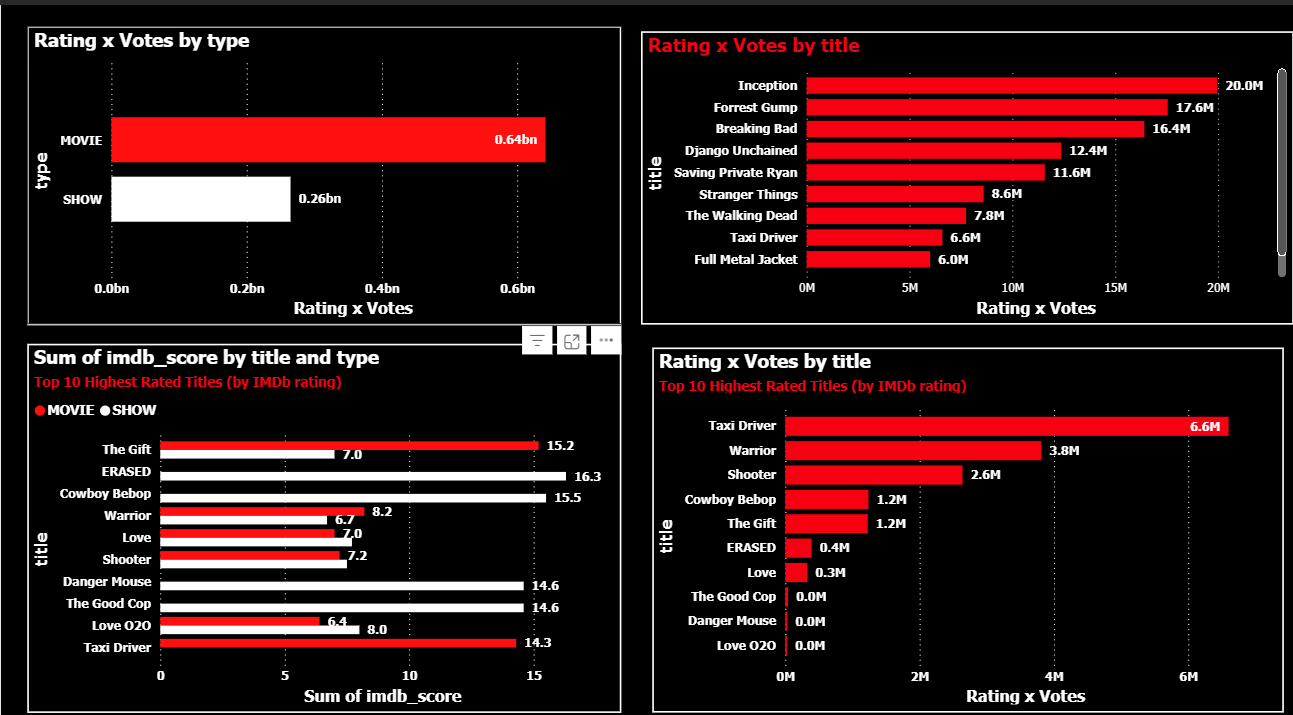

The page's visual inventory and layout, read from the dashboard file:
{"tool":"powerbi","page":{"name":"Page 2","canvas":[1280,720],"ordinal":1},"visuals":[{"type":"clusteredBarChart","fields":{"Category":["Netflix TV Shows and Movies.title"],"Series":["Netflix TV Shows and Movies.type"],"Y":["Sum(Netflix TV Shows and Movies.imdb_score)"]},"box":[26.1,332.1,583.2,362.3],"z":0},{"type":"clusteredBarChart","fields":{"Y":["Netflix TV Shows and Movies.Rating x Votes"],"Category":["Netflix TV Shows and Movies.title"]},"box":[639.5,336.2,620.2,358.1],"z":1000},{"type":"clusteredBarChart","fields":{"Y":["Netflix TV Shows and Movies.Rating x Votes"],"Category":["Netflix TV Shows and Movies.type"]},"box":[26.1,20.6,583.2,293.7],"z":2000},{"type":"clusteredBarChart","fields":{"Category":["Netflix TV Shows and Movies.title"],"Y":["Netflix TV Shows and Movies.Rating x Votes"]},"box":[628.5,26.1,640.8,288.2],"z":3000}]}

Visuals, with their boxes in screenshot pixels (x1, y1, x2, y2), scaled from the page's 1280x720 canvas onto the 1293x715 screenshot:
clusteredBarChart - Netflix TV Shows and Movies.title x Netflix TV Shows and Movies.type: bbox=[26, 330, 615, 690]
clusteredBarChart - Netflix TV Shows and Movies.Rating x Votes x Netflix TV Shows and Movies.title: bbox=[646, 334, 1272, 689]
clusteredBarChart - Netflix TV Shows and Movies.Rating x Votes x Netflix TV Shows and Movies.type: bbox=[26, 20, 615, 312]
clusteredBarChart - Netflix TV Shows and Movies.title x Netflix TV Shows and Movies.Rating x Votes: bbox=[635, 26, 1282, 312]
